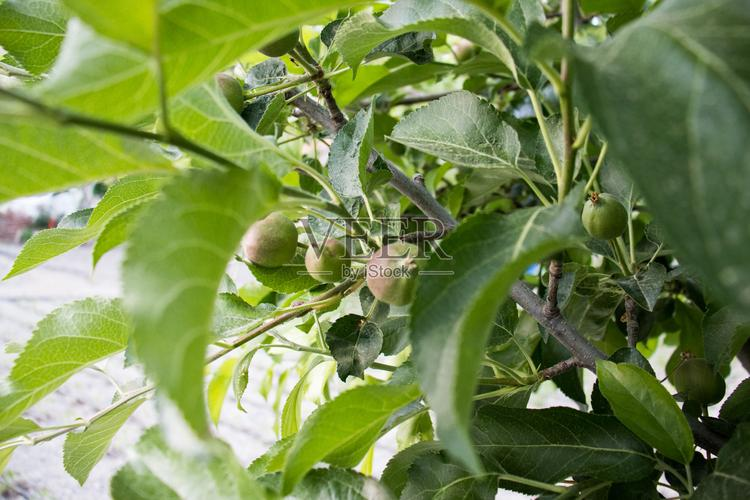unripe: (364, 235, 429, 302), (235, 209, 297, 268), (304, 233, 353, 292), (583, 185, 631, 244)
